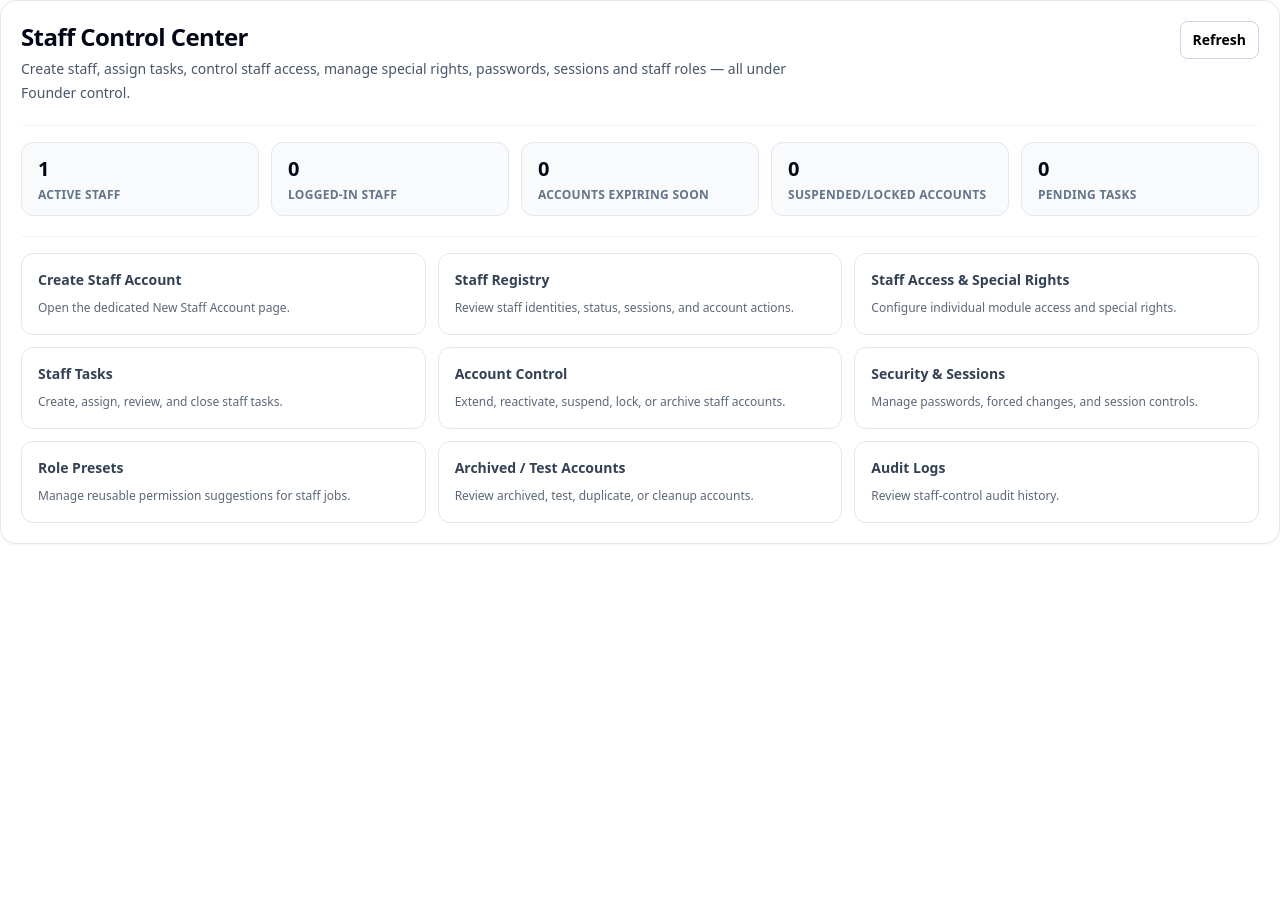
Test: TeamManagement staff access save button › saves access changes through the existing API and disables again on success
Click the button "Staff Access & Special Rights": (970, 280) 854,253 -> 1259,335
(page scrolled)
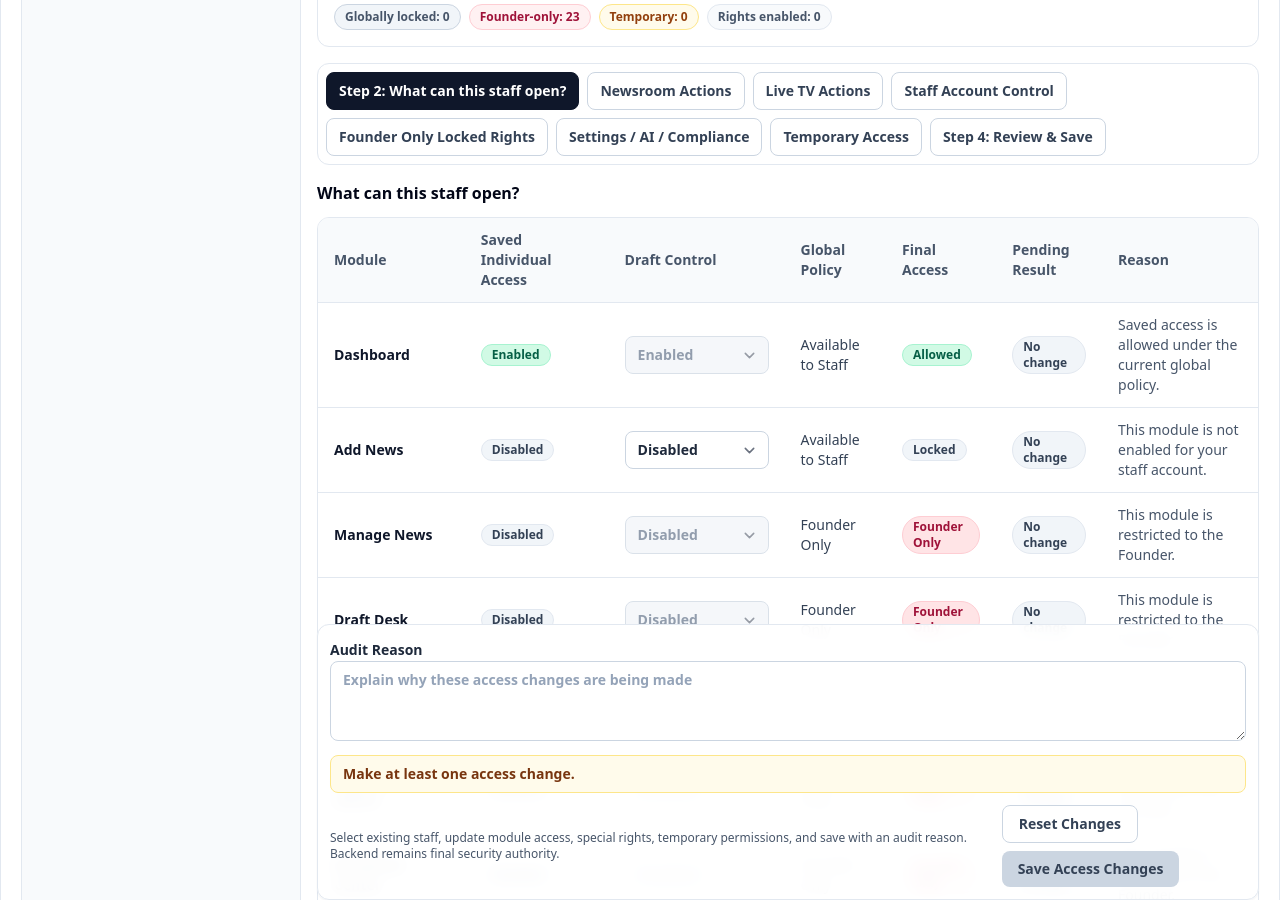
Expected: the button "Save Access Changes" is disabled, 1002,851 -> 1179,887
Select "Enabled" in the dropdown in the row of "Add News": (696, 450) 624,431 -> 768,469
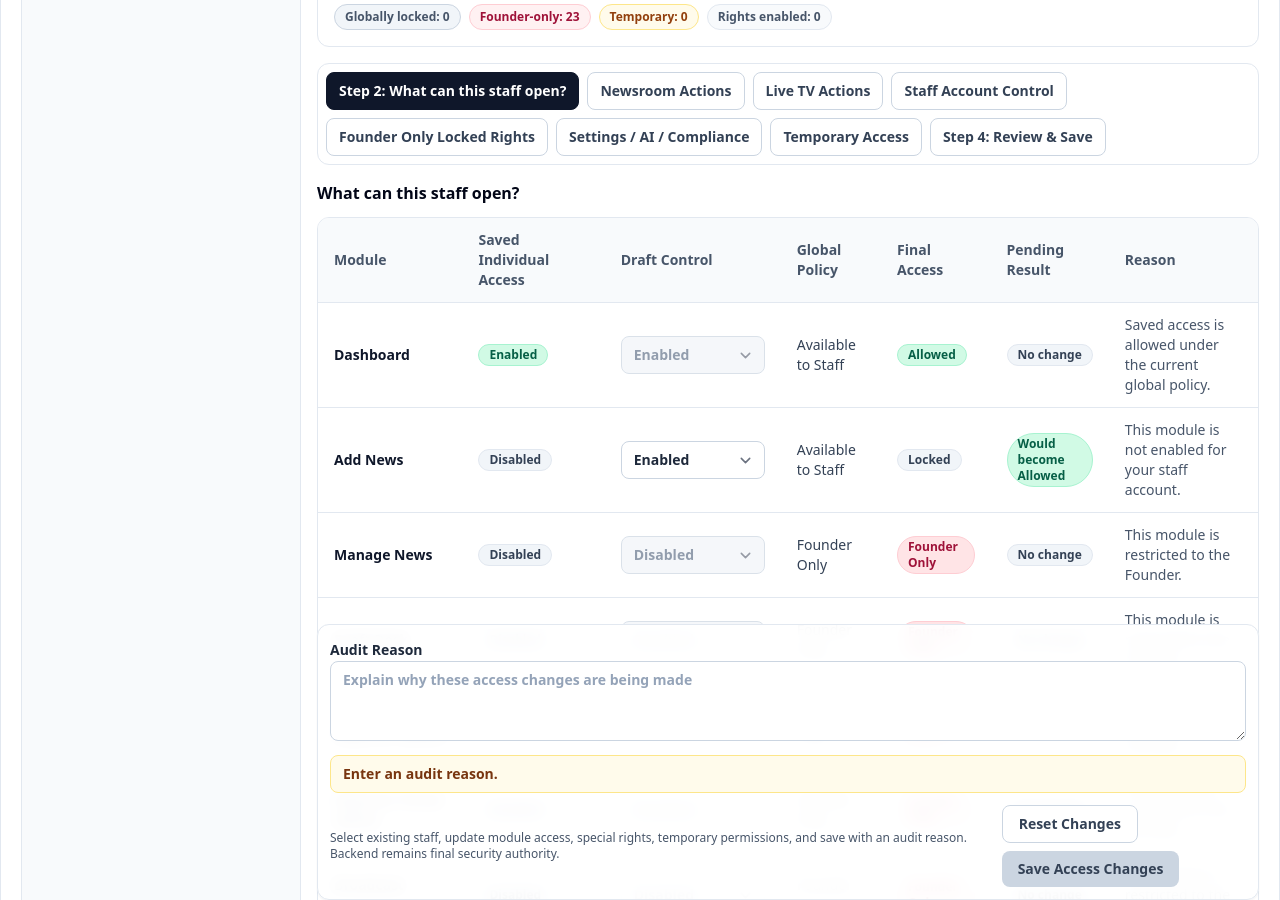
In the text box labelled "Audit Reason": (788, 701) 330,661 -> 1246,741, type "Routine access review"
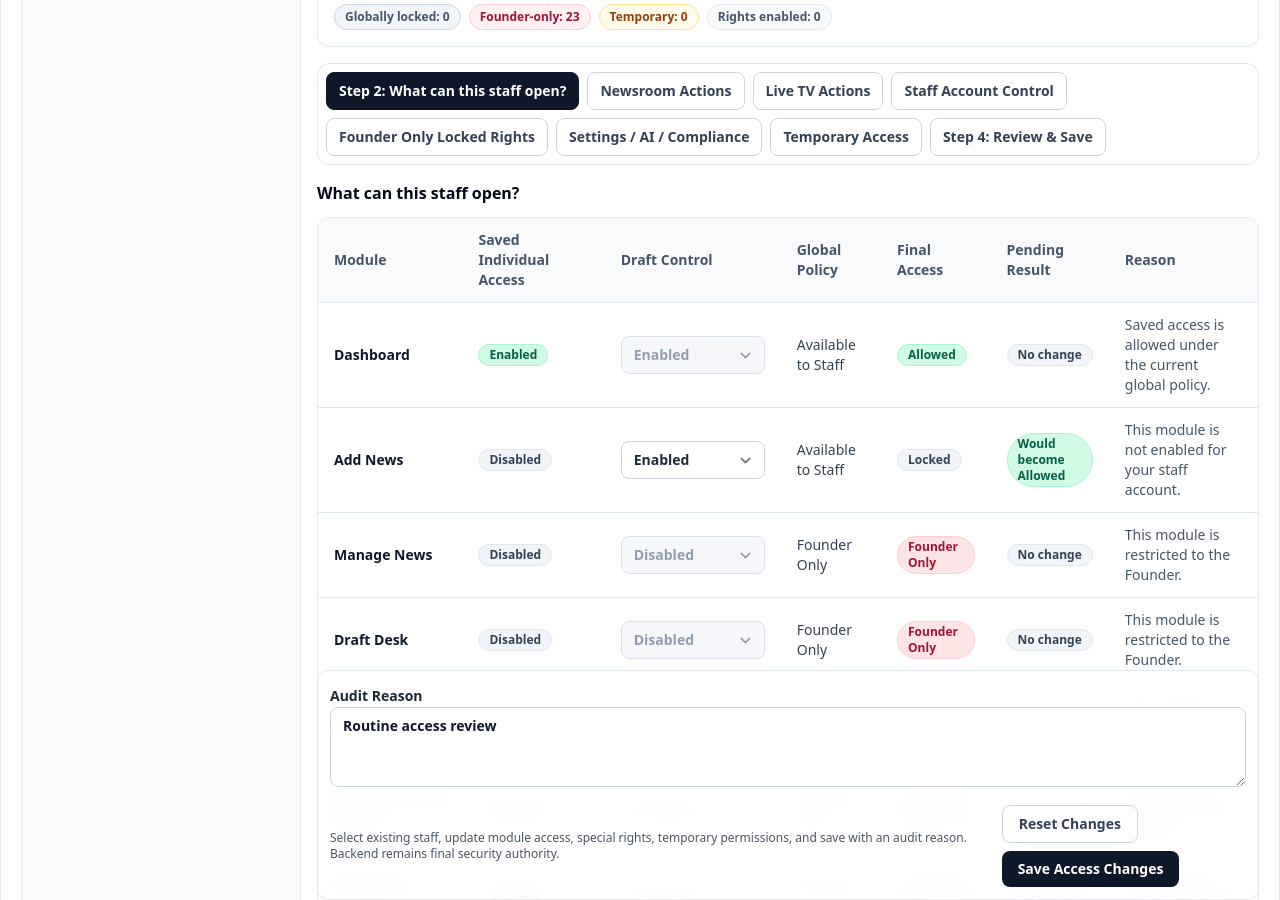
Expected: the button "Save Access Changes" is enabled
Click the button "Save Access Changes": (1090, 869) 1002,851 -> 1179,887
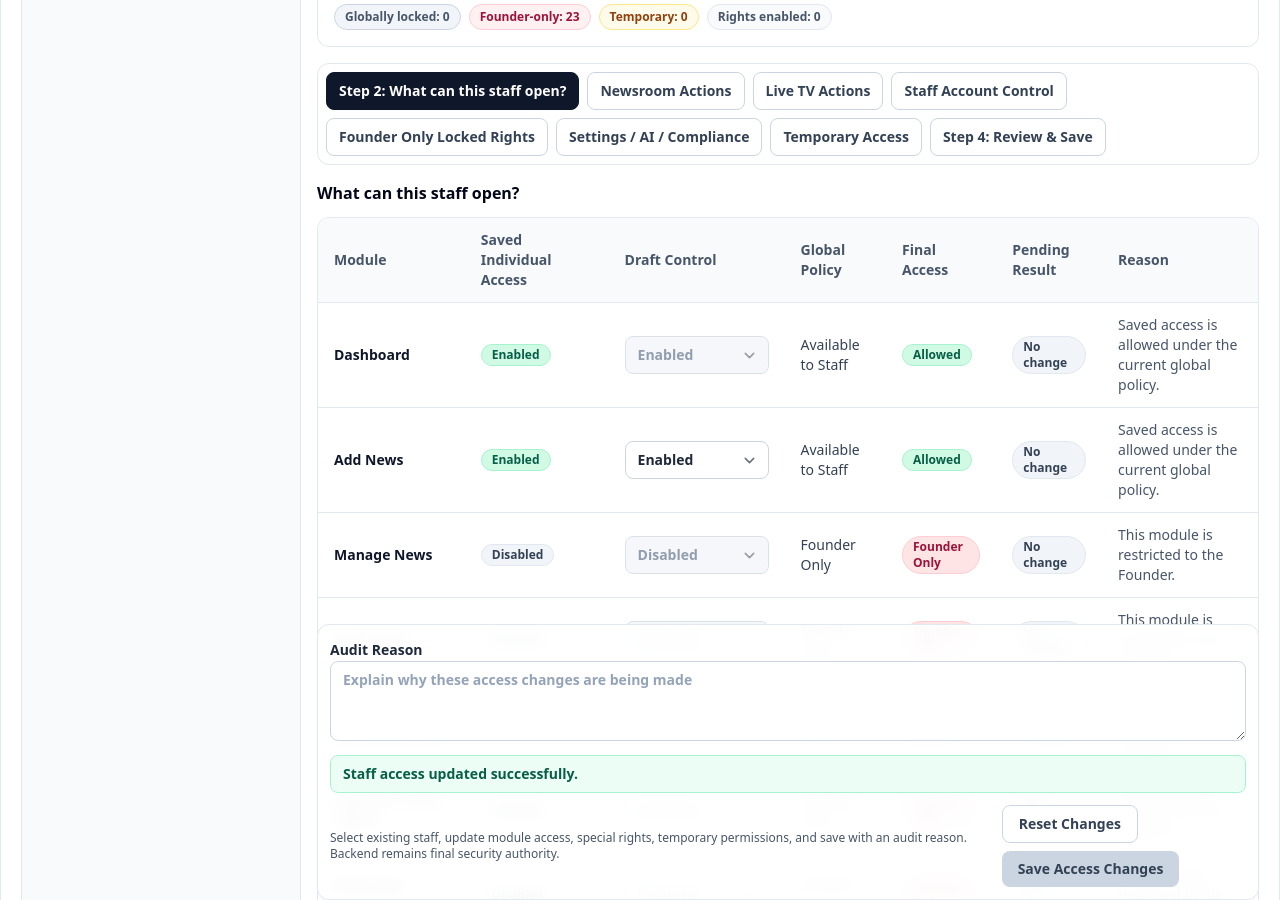
Expected: the text "Staff access updated successfully." is shown, 330,755 -> 1246,793
Expected: the button "Save Access Changes" is disabled, 1002,851 -> 1179,887
